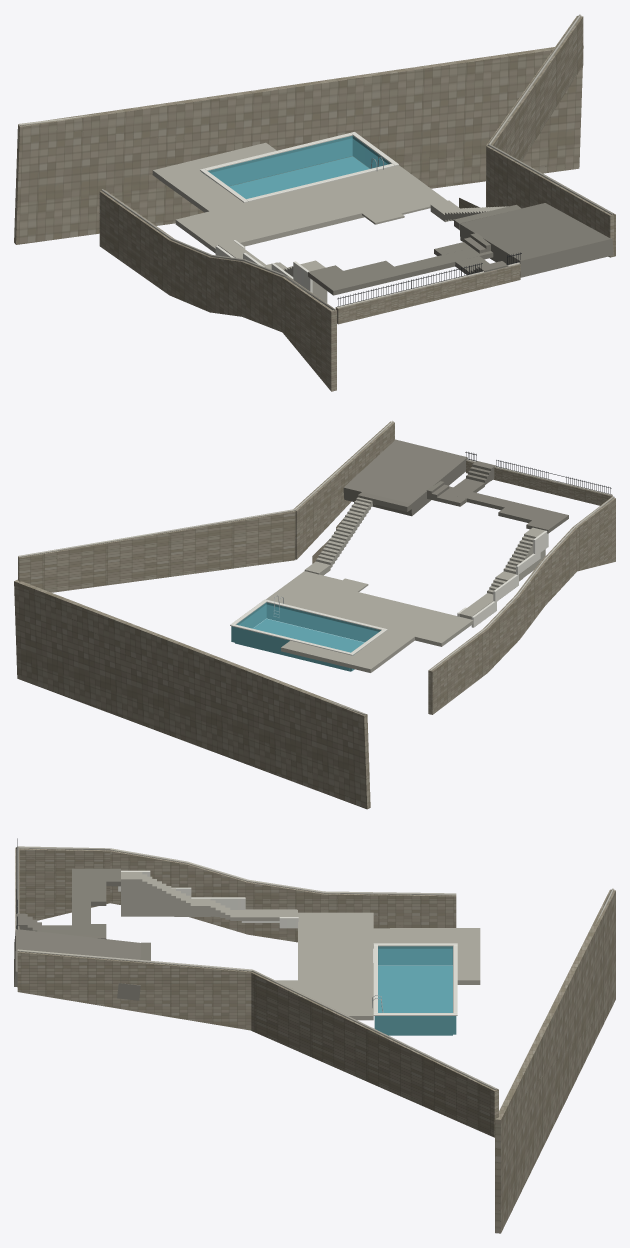
The model's file is villa-garden-ground-2-opt-v4.glb.
3 views of the same model, one above another, from view 1: azimuth 30°, elevation 25°; view 2: azimuth 150°, elevation 25°; view 3: azimuth 270°, elevation 25° (orthographic). The views are drawn at different scales.
Visible parts, largest first — view 1: Retaining wall rough limestone (1).002, stone_tile (4), Entrance coursed limestone, pool_tile, water, white_trim (5), metal (5); view 2: Retaining wall rough limestone (1).002, stone_tile (4), Entrance coursed limestone, pool_tile, water, white_trim (5), metal (5); view 3: Retaining wall rough limestone (1).002, stone_tile (4), pool_tile, Entrance coursed limestone, water, white_trim (5).
Part boxes in pixels (left/top/right/bottom): Retaining wall rough limestone (1).002: left=14, top=16, right=615, bottom=391; stone_tile (4): left=18, top=14, right=614, bottom=310; Entrance coursed limestone: left=308, top=203, right=613, bottom=295; pool_tile: left=202, top=135, right=390, bottom=198; water: left=211, top=138, right=387, bottom=198; white_trim (5): left=200, top=132, right=398, bottom=292; metal (5): left=337, top=252, right=521, bottom=306; Retaining wall rough limestone (1).002: left=14, top=421, right=615, bottom=809; stone_tile (4): left=18, top=420, right=614, bottom=714; Entrance coursed limestone: left=343, top=439, right=568, bottom=533; pool_tile: left=231, top=602, right=380, bottom=671; water: left=239, top=604, right=378, bottom=652; white_trim (5): left=230, top=530, right=548, bottom=655; metal (5): left=465, top=451, right=611, bottom=494; Retaining wall rough limestone (1).002: left=15, top=847, right=615, bottom=1233; stone_tile (4): left=16, top=846, right=614, bottom=1089; pool_tile: left=374, top=946, right=456, bottom=1035; Entrance coursed limestone: left=14, top=868, right=150, bottom=1000; water: left=378, top=949, right=452, bottom=1012; white_trim (5): left=118, top=870, right=457, bottom=1015.
Size of the model in its own units: 36.34 by 13.19 by 39.35.
Materials: 8 (8 with a texture image).
